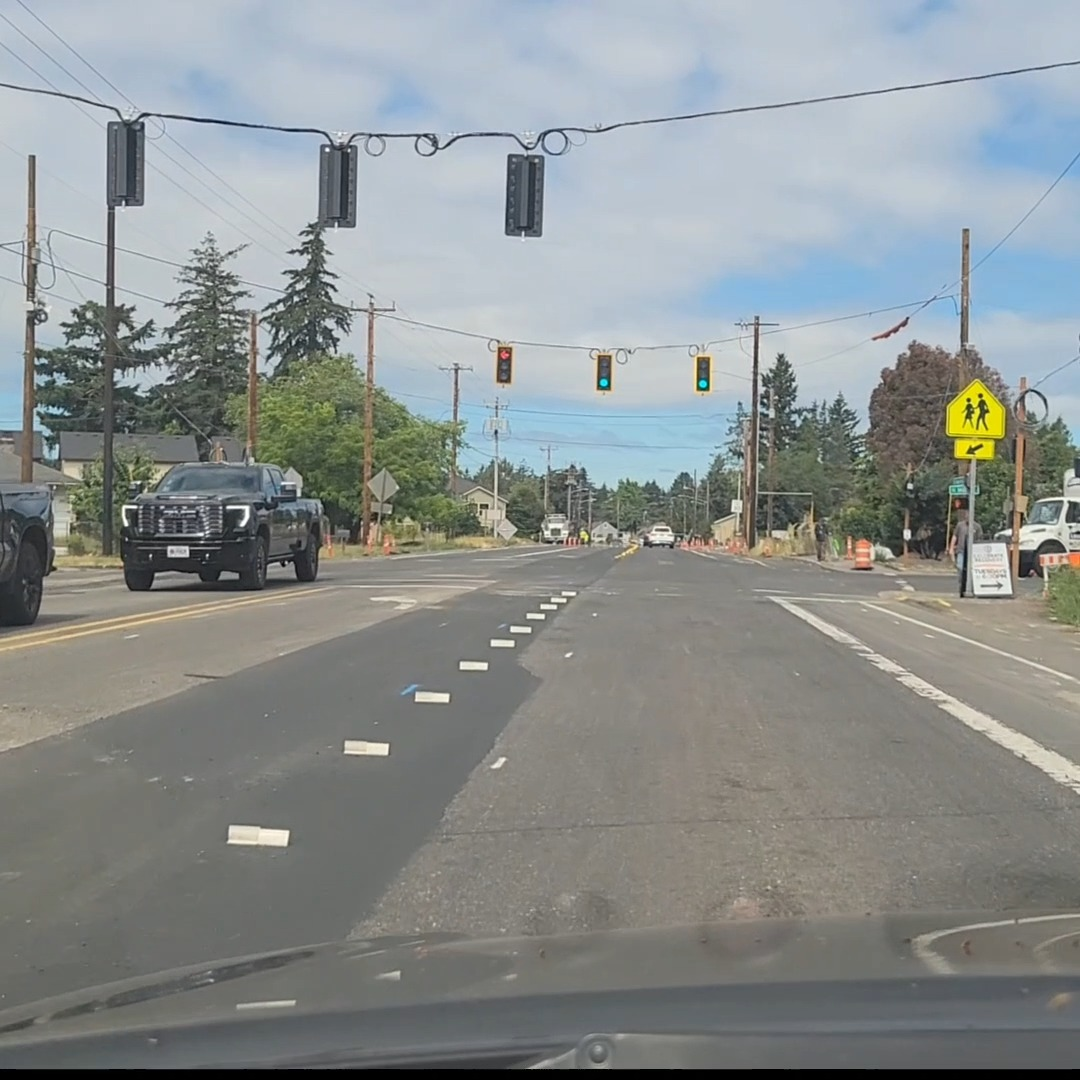car: (114, 460, 323, 591), (642, 525, 675, 547)
